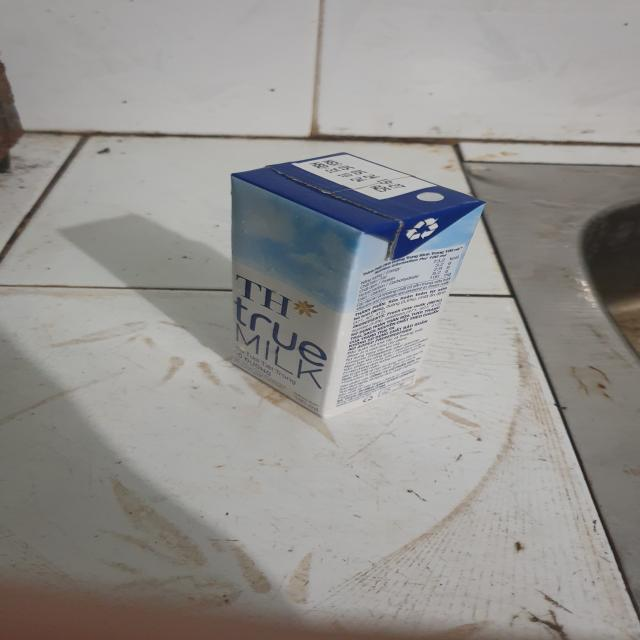TH: (228, 151, 491, 418)
